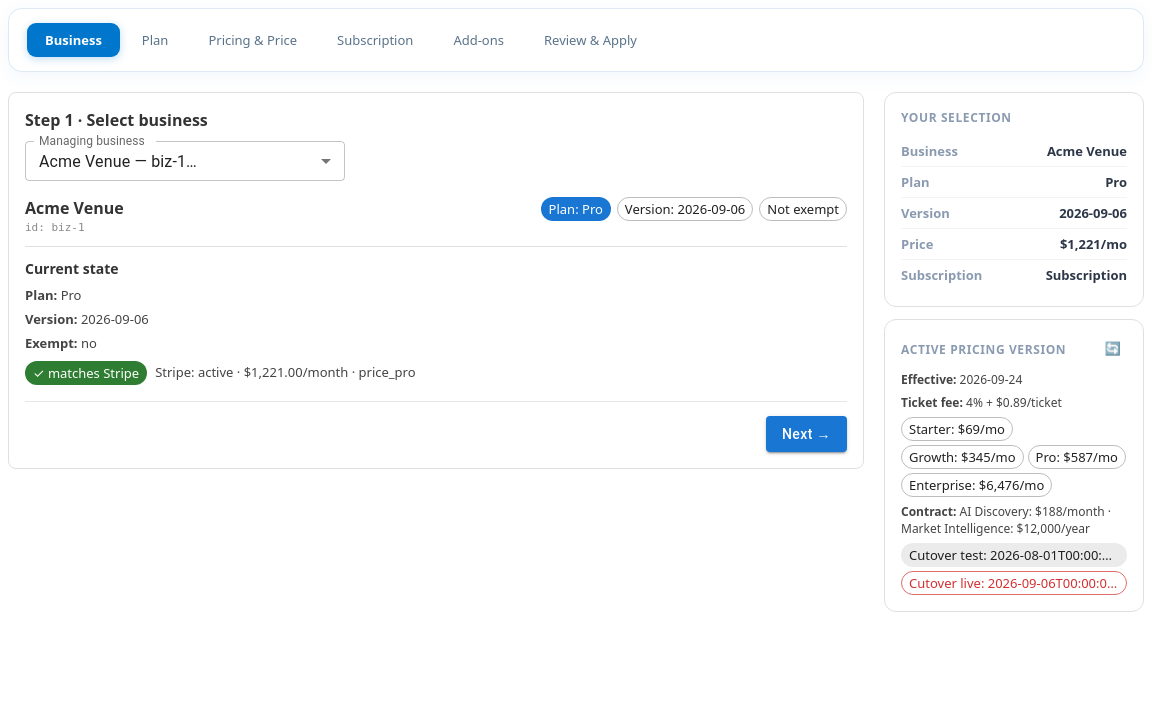
Test: PricingConsole (guided stepped workflow) › Step 3 shows the New/Legacy version choice with correct real amounts for the chosen plan
Click the button with test id "pc-next".
click(806, 434)  # box [766,416,847,452]
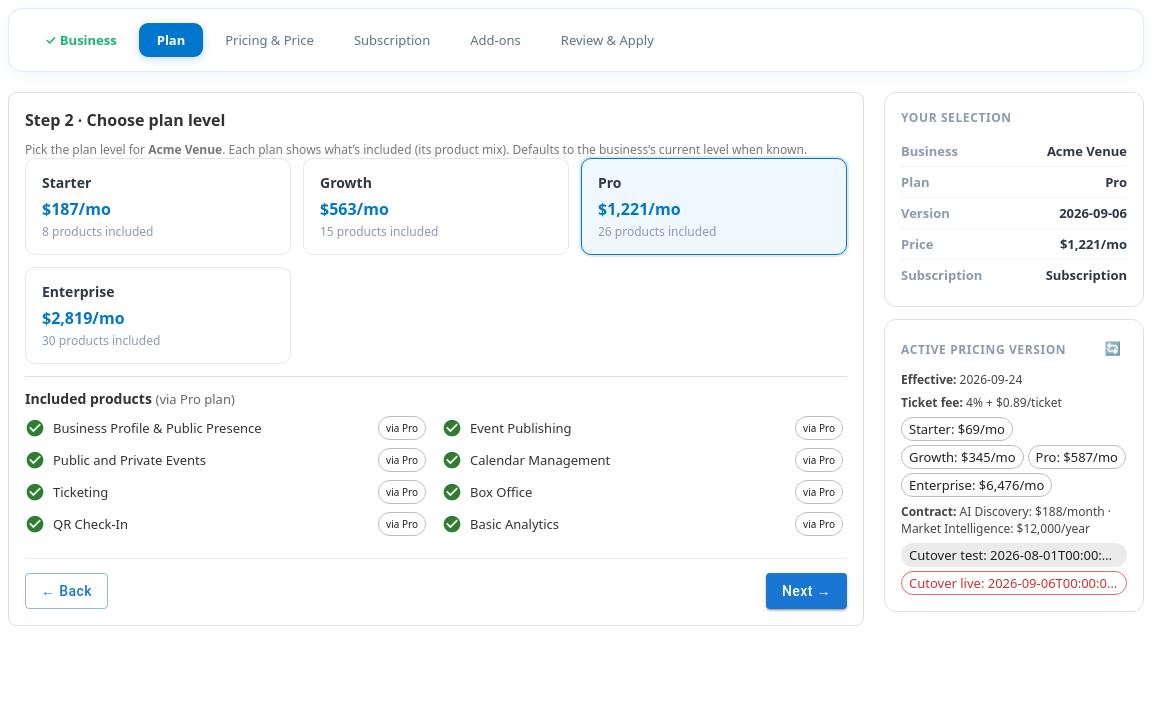
Click the button with test id "pc-next".
click(806, 591)  # box [766,572,847,609]
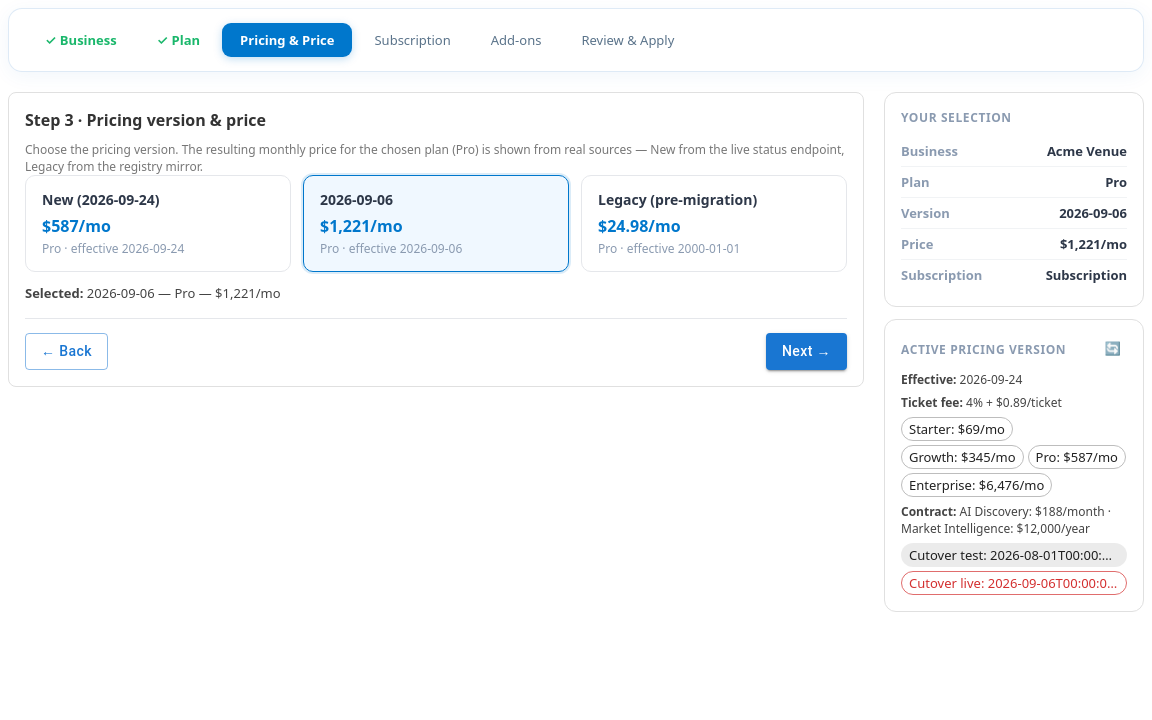
Expected: the button with test id "version-2000-01-01" shows "Legacy (pre-migration)", [581,175,847,272]
